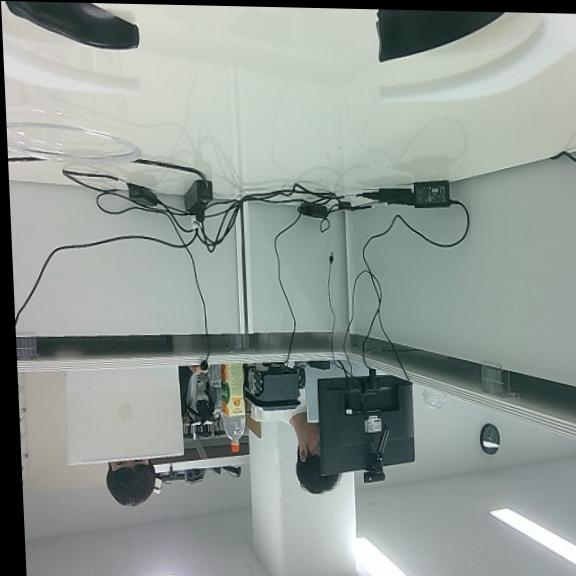Plastik: (3, 72, 142, 164)
